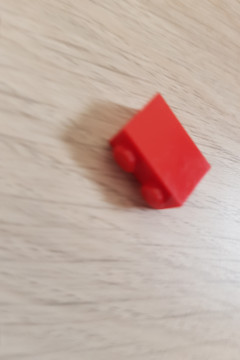1x2 red: (109, 90, 212, 210)
